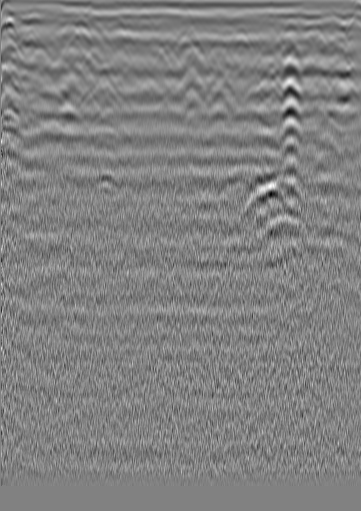가스: (90, 165, 123, 195)
상수: (320, 31, 349, 59)
오수: (28, 40, 48, 60)
우수: (202, 39, 234, 73)
